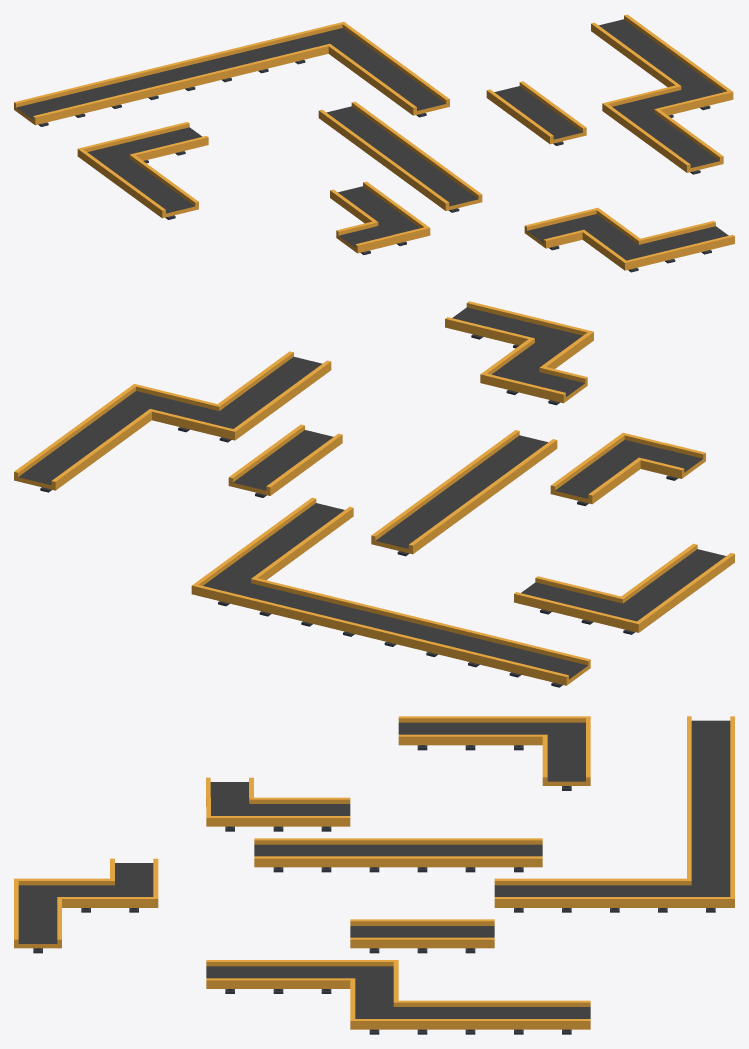
The model's file is World_V2_Conveyors.fbx.
3 renders of one model, top to bottom at view 1: azimuth 30°, elevation 25°; view 2: azimuth 150°, elevation 25°; view 3: azimuth 270°, elevation 25°, orthographic. The views are drawn at different scales.
Parts seen in each view (by area): view 1: Conveyor.035, Conveyor.037, Conveyor, Conveyor.031, Conveyor.017, Conveyor.013, Conveyor.040, Conveyor.023, Conveyor.034, Conveyor.006, C_Conveyor.003, Conveyor.005 (+36 smaller); view 2: Conveyor, Conveyor.035, Conveyor.037, Conveyor.039, Conveyor.022, Conveyor.025, Conveyor.011, Conveyor.006, C_Conveyor.002, Conveyor.003, Conveyor.002, Conveyor.004 (+36 smaller); view 3: Conveyor.026, Conveyor.028, Conveyor.038, Conveyor.039, Conveyor.016, Conveyor.023, Conveyor.012, Conveyor.014, Conveyor.015, Conveyor.017, Conveyor.022, Conveyor.024 (+36 smaller).
Part boxes in pixels (left/top/right/bottom): Conveyor.035: left=524, top=216, right=582, bottom=250; Conveyor.037: left=336, top=221, right=394, bottom=254; Conveyor: left=14, top=93, right=71, bottom=126; Conveyor.031: left=665, top=141, right=723, bottom=174; Conveyor.017: left=424, top=179, right=482, bottom=212; Conveyor.013: left=392, top=83, right=449, bottom=117; Conveyor.040: left=141, top=186, right=198, bottom=219; Conveyor.023: left=529, top=112, right=586, bottom=145; Conveyor.034: left=641, top=230, right=698, bottom=263; Conveyor.006: left=197, top=48, right=255, bottom=82; C_Conveyor.003: left=603, top=238, right=661, bottom=272; Conveyor.005: left=271, top=30, right=328, bottom=64; Conveyor: left=525, top=649, right=590, bottom=687; Conveyor.035: left=522, top=367, right=587, bottom=405; Conveyor.037: left=640, top=442, right=705, bottom=480; Conveyor.039: left=550, top=468, right=616, bottom=506; Conveyor.022: left=228, top=460, right=294, bottom=497; Conveyor.025: left=14, top=454, right=79, bottom=492; Conveyor.011: left=371, top=518, right=436, bottom=556; Conveyor.006: left=316, top=598, right=381, bottom=636; C_Conveyor.002: left=193, top=404, right=259, bottom=442; Conveyor.003: left=441, top=629, right=506, bottom=667; Conveyor.002: left=400, top=619, right=465, bottom=656; Conveyor.004: left=275, top=588, right=340, bottom=626; Conveyor.026: left=446, top=1000, right=494, bottom=1034; Conveyor.028: left=398, top=1000, right=446, bottom=1034; Conveyor.038: left=254, top=797, right=302, bottom=831; Conveyor.039: left=302, top=797, right=350, bottom=831; Conveyor.016: left=350, top=838, right=398, bottom=872; Conveyor.023: left=350, top=919, right=398, bottom=953; Conveyor.012: left=446, top=838, right=494, bottom=872; Conveyor.014: left=398, top=838, right=446, bottom=872; Conveyor.015: left=302, top=838, right=350, bottom=872; Conveyor.017: left=254, top=838, right=302, bottom=872; Conveyor.022: left=446, top=919, right=494, bottom=953; Conveyor.024: left=398, top=919, right=446, bottom=953.
Size of the model in its own units: 1500 by 50 by 1500.
